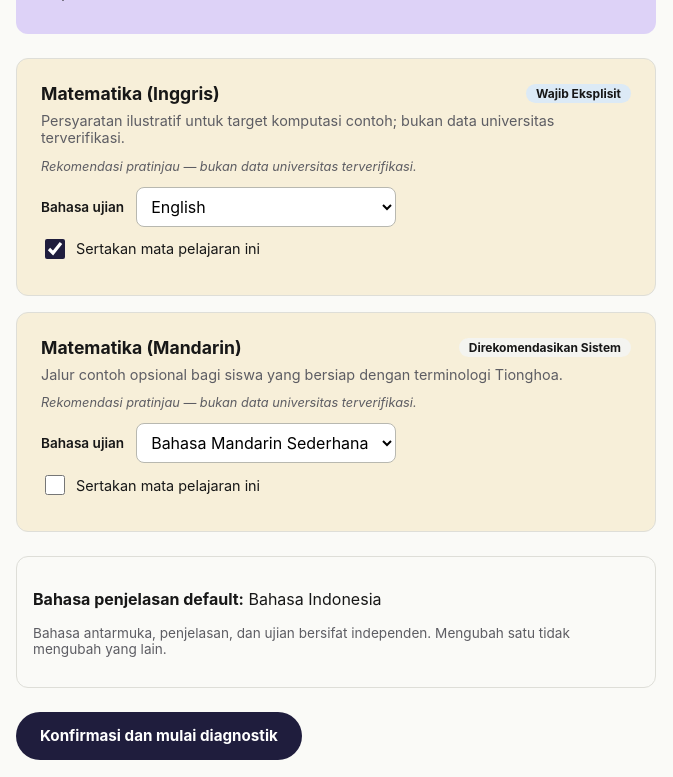
it: PX-001 integrated preview states › requires explicit acknowledgement before excluding a required sample subject
(page scrolled)
Click the checkbox labelled "Sertakan mata pelajaran ini" below "Matematika (Mandarin)".
click(55, 485)  # box x1=45 y1=475 x2=65 y2=495
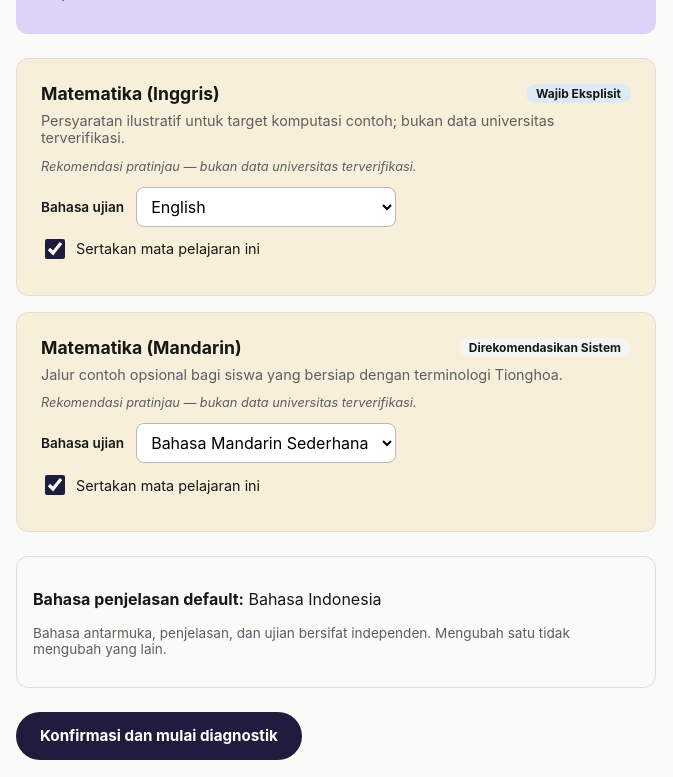
Click the checkbox labelled "Sertakan mata pelajaran ini" below "Matematika (Inggris)".
click(55, 249)  # box x1=45 y1=239 x2=65 y2=259
(page scrolled)
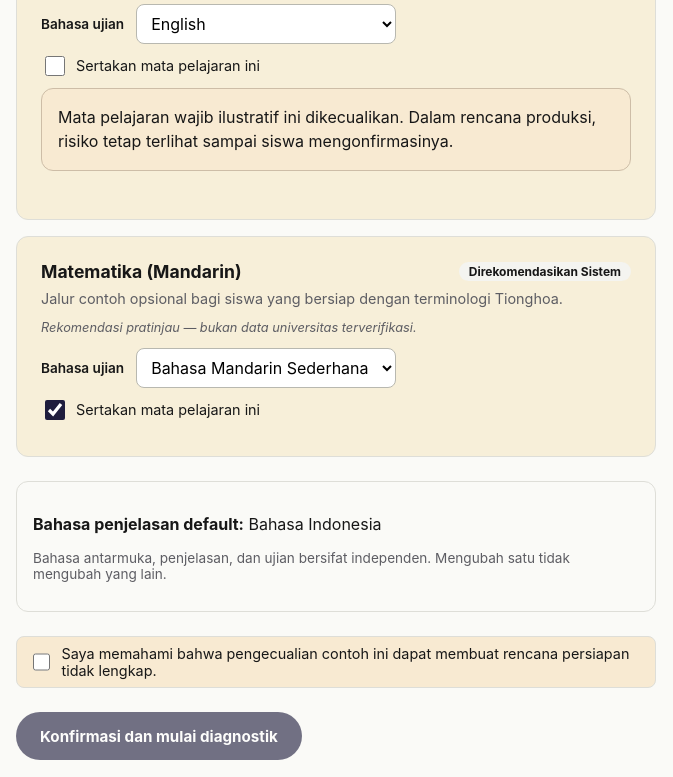
Expected: the button "Konfirmasi dan mulai diagnostik" is disabled, x1=16 y1=712 x2=302 y2=760
Click the 3rd checkbox.
click(42, 662)  # box x1=33 y1=652 x2=50 y2=672
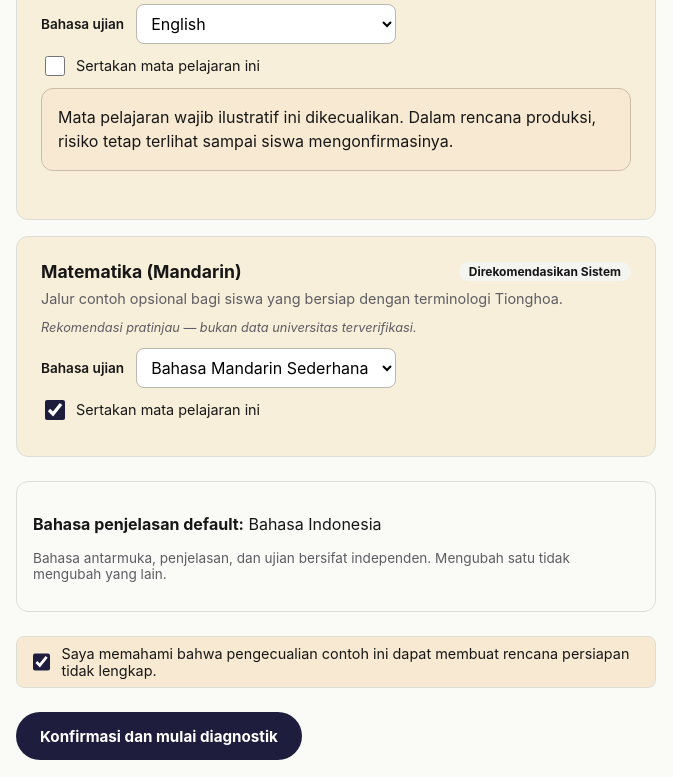
Expected: the button "Konfirmasi dan mulai diagnostik" is enabled, x1=16 y1=712 x2=302 y2=760
